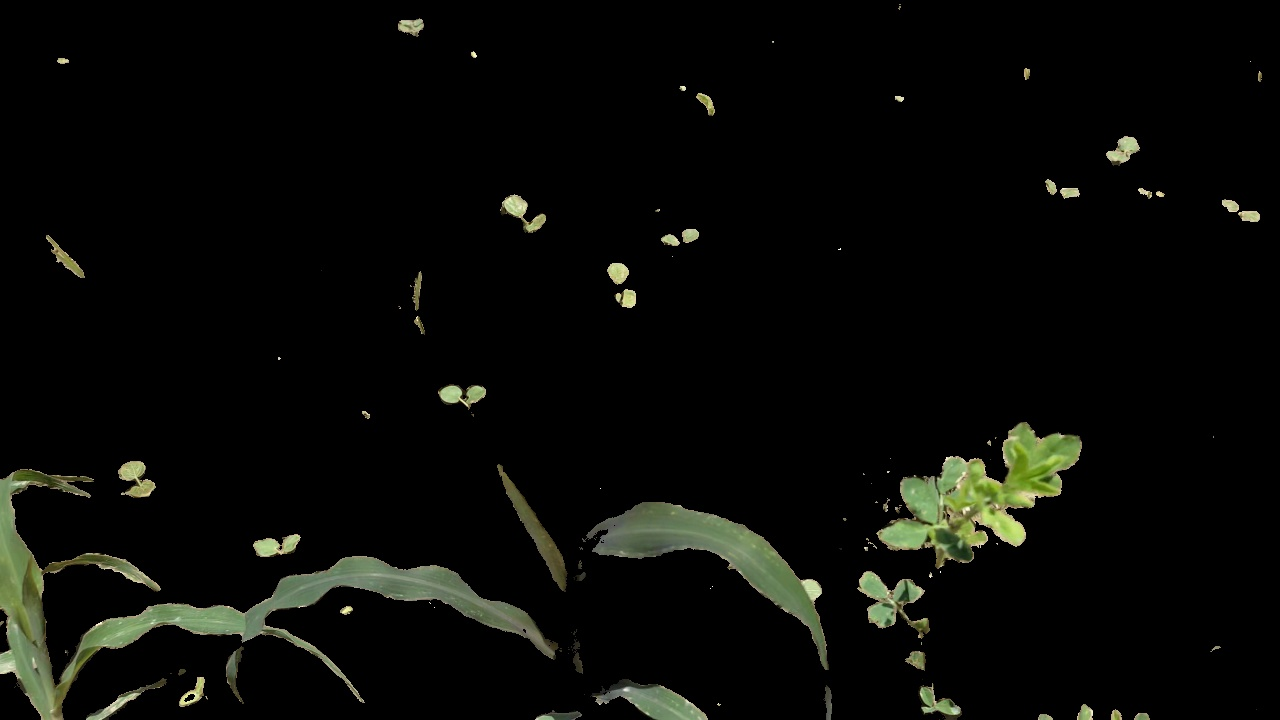crop: (223, 458, 832, 713), (5, 459, 365, 720)
weed: (888, 410, 1101, 563), (850, 569, 971, 712), (501, 189, 562, 257), (431, 378, 497, 422), (606, 248, 647, 317), (1219, 183, 1265, 235), (253, 524, 305, 557), (121, 455, 159, 498), (655, 219, 700, 255), (1042, 169, 1081, 208), (1112, 127, 1147, 168), (1127, 183, 1167, 207)
